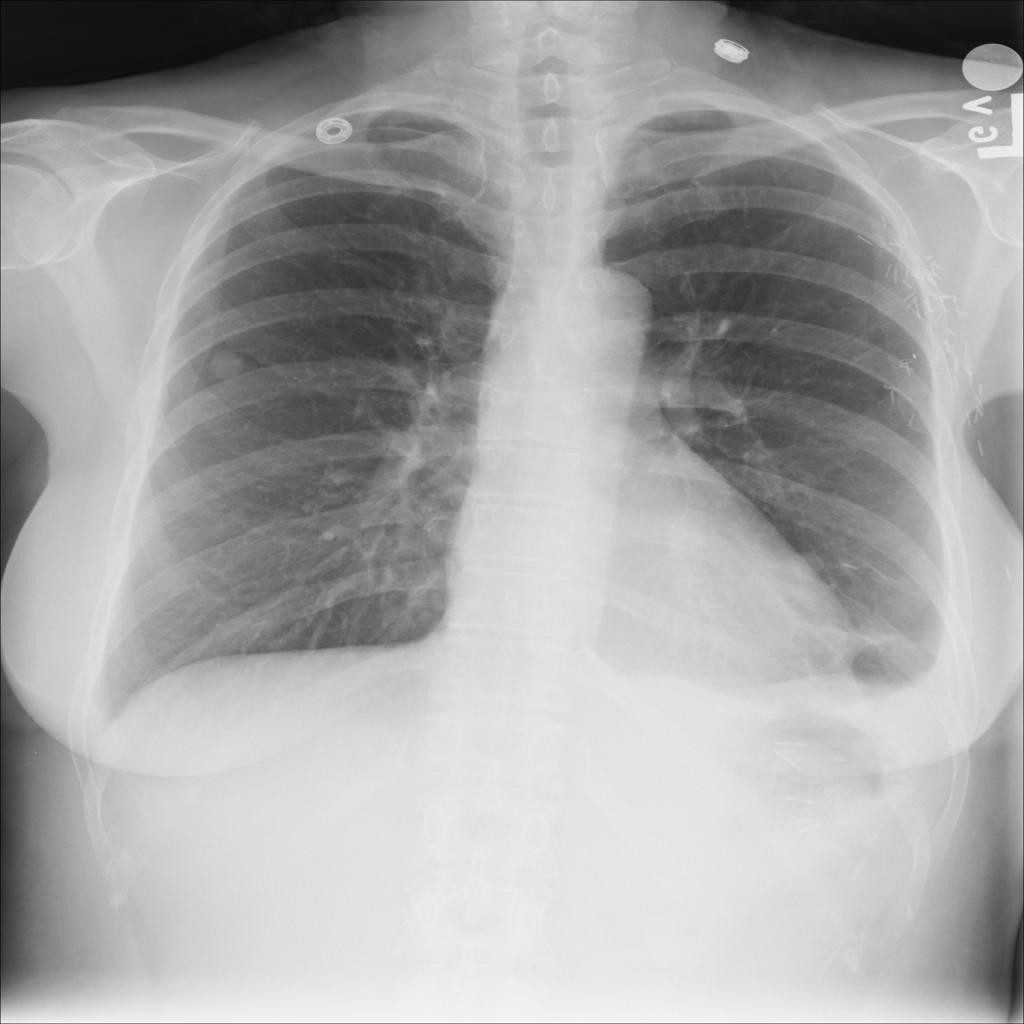nodule: (197, 341, 259, 388)
